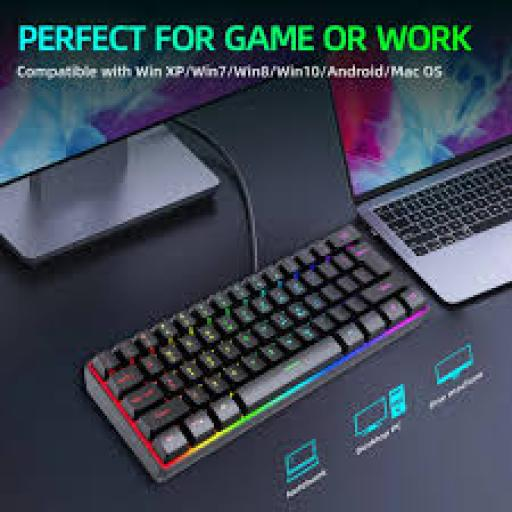keyboard: (86, 224, 426, 480)
